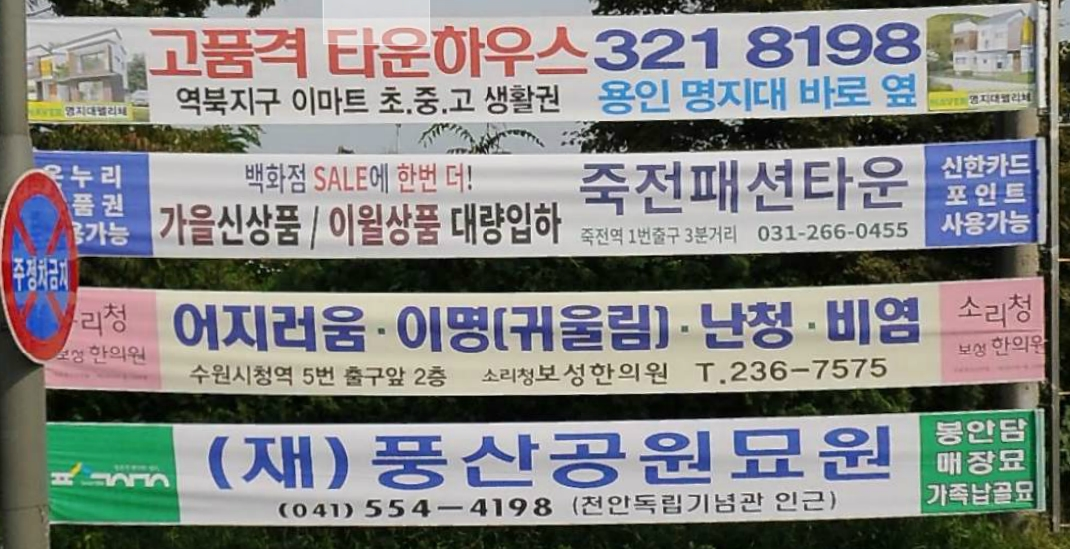banner: (1, 403, 1067, 545), (39, 136, 1062, 268), (32, 270, 1052, 402), (21, 1, 1049, 126)
